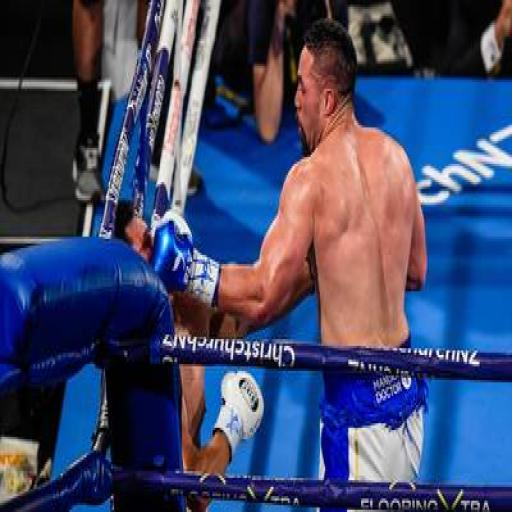boxing: (105, 32, 451, 512)
